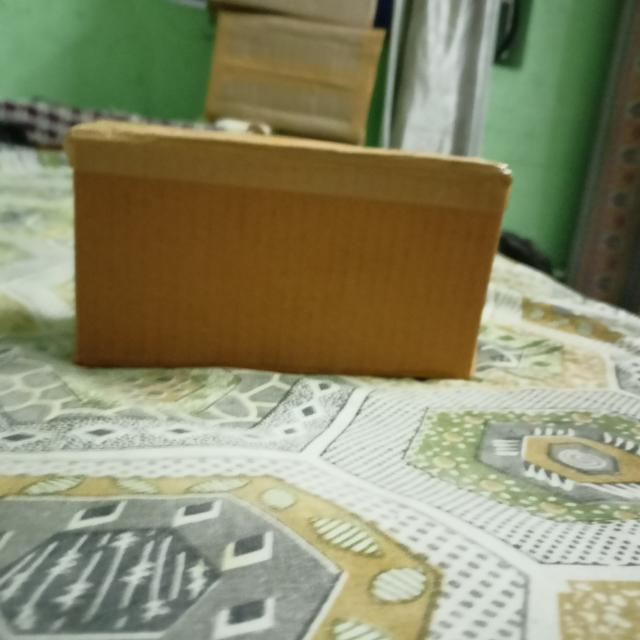box: (72, 130, 511, 378)
